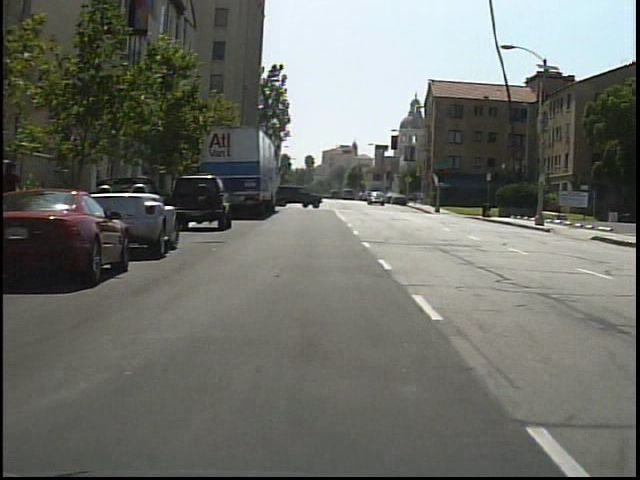person: (2, 158, 31, 244), (409, 188, 421, 210)
